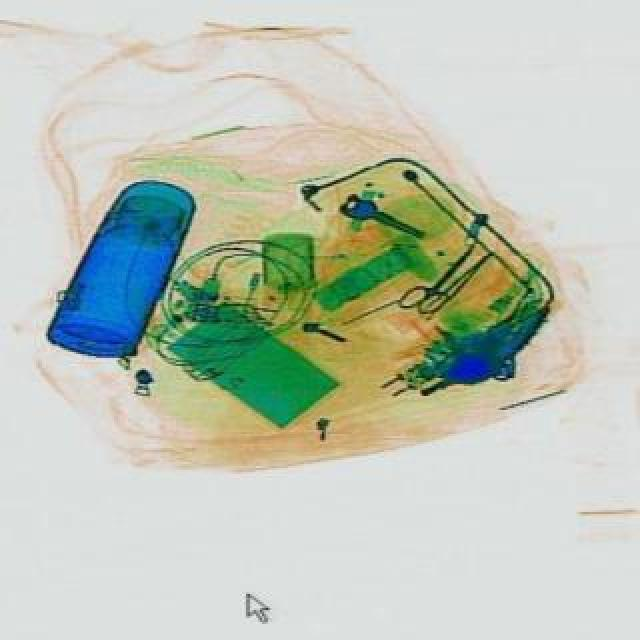pliers: (394, 236, 484, 324)
